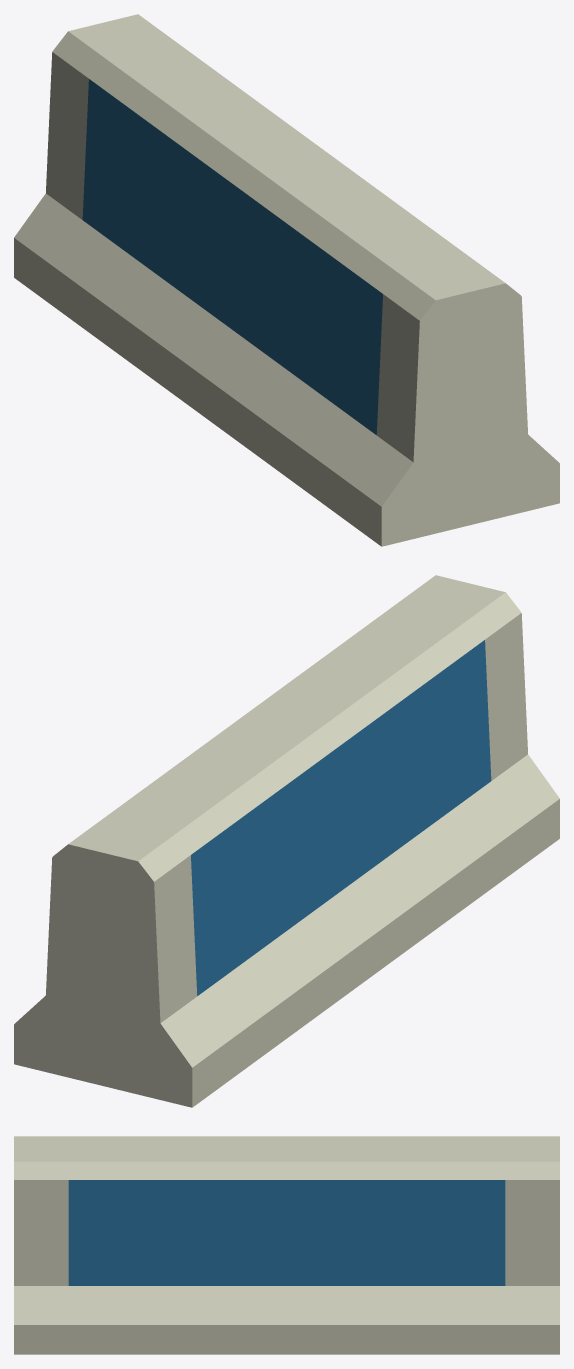
Rendered from barrier_bluewhite_2m.glb.
3 views of the same model, one above another, from view 1: azimuth 30°, elevation 25°; view 2: azimuth 150°, elevation 25°; view 3: azimuth 270°, elevation 25° (orthographic). The views are drawn at different scales.
Visible parts, largest first — view 1: barrier_bluewhite_2m__common; view 2: barrier_bluewhite_2m__common; view 3: barrier_bluewhite_2m__common.
Part boxes in pixels (bbox=[...]): barrier_bluewhite_2m__common: bbox=[14, 14, 559, 546]; barrier_bluewhite_2m__common: bbox=[14, 575, 559, 1107]; barrier_bluewhite_2m__common: bbox=[14, 1136, 559, 1354].
Bounding box in the file's own units: 0.56 × 0.7 × 2.
